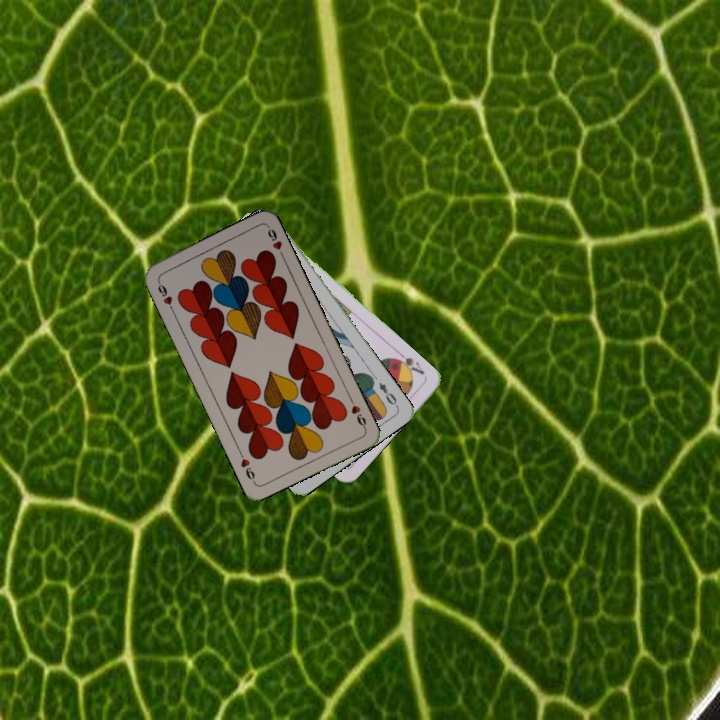EO: (375, 378, 401, 410)
H9: (346, 394, 369, 432), (154, 277, 177, 315)
SA: (390, 348, 427, 378)
